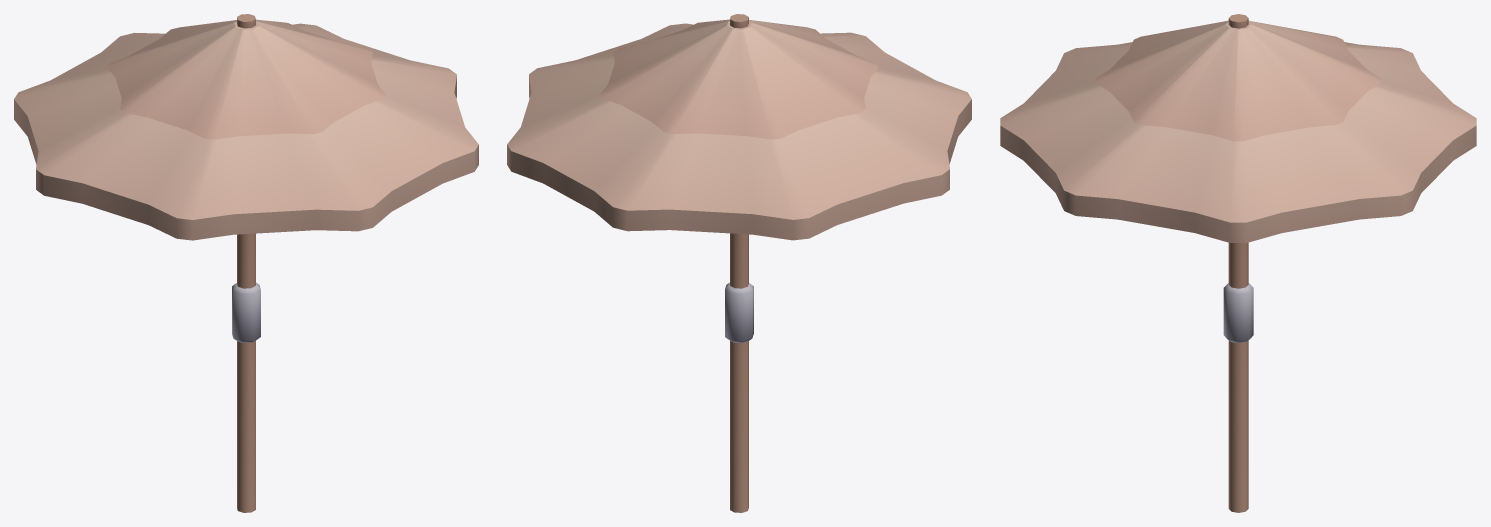
The model's file is parasol.glb.
The picture shows the model from 3 angles, left to right: view 1: azimuth 30°, elevation 25°; view 2: azimuth 150°, elevation 25°; view 3: azimuth 270°, elevation 25°; orthographic projection.
Parts seen in each view (by area): view 1: parasol; view 2: parasol; view 3: parasol.
Boxes of the visible parts, x1,y1,x2,y2 form: parasol: [14, 14, 478, 512]; parasol: [507, 14, 971, 512]; parasol: [1000, 14, 1476, 512].
Bounding box in the file's own units: 1.26 × 1.44 × 1.26.
